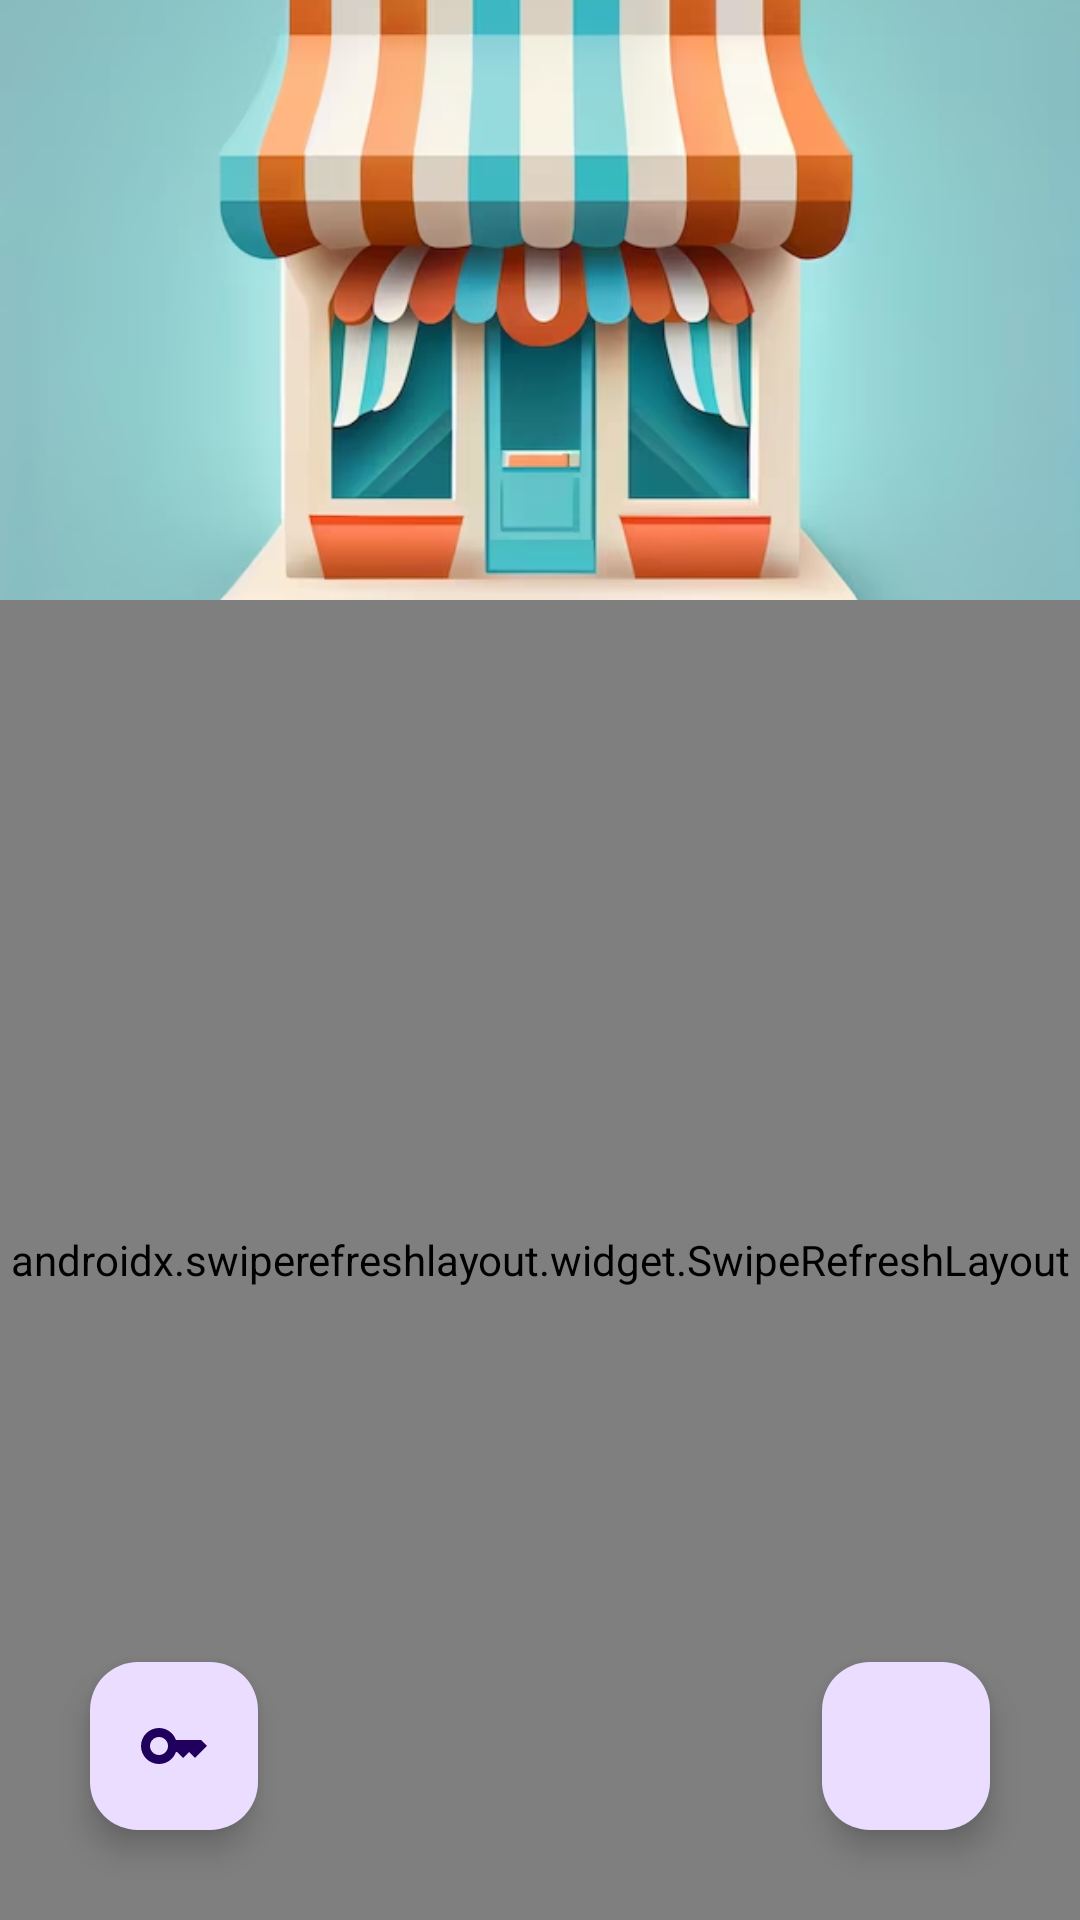

Where to tap for icons on this 1080×1920 app screen, as (x,y):
key: (174,1746)
